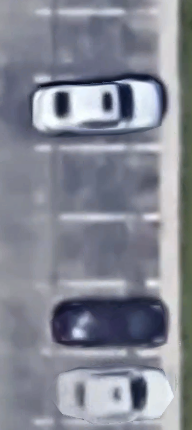Occupied: (33, 81, 159, 150), (33, 284, 158, 353), (33, 354, 158, 422)
Vacant: (35, 9, 159, 81), (33, 148, 157, 218), (33, 219, 158, 284)
